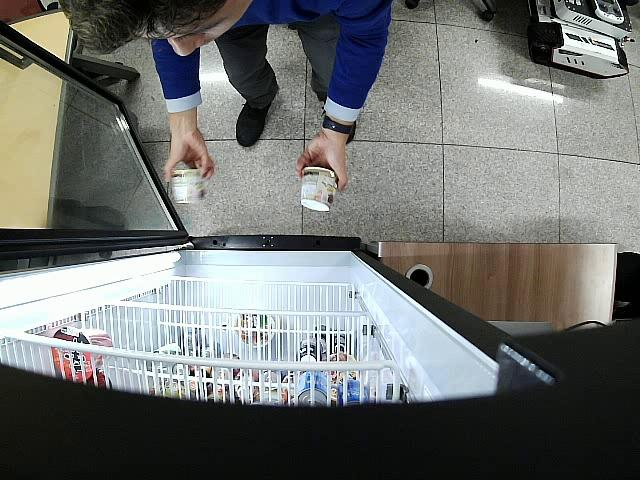00_hand: (164, 121, 215, 182), (296, 133, 348, 191)
04_chapagetti_S: (300, 167, 338, 213), (170, 169, 206, 204)
